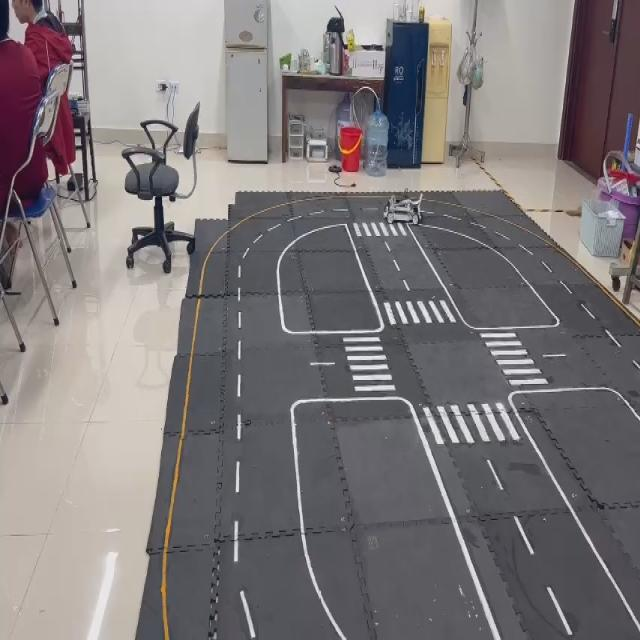SiCo-CAR: (382, 190, 423, 226)
